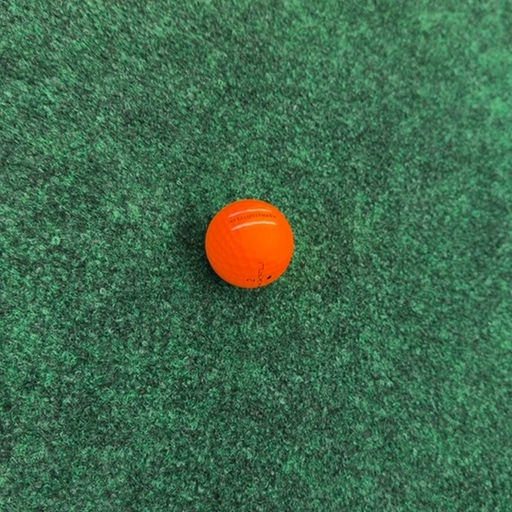Ball: (205, 200, 294, 289)
